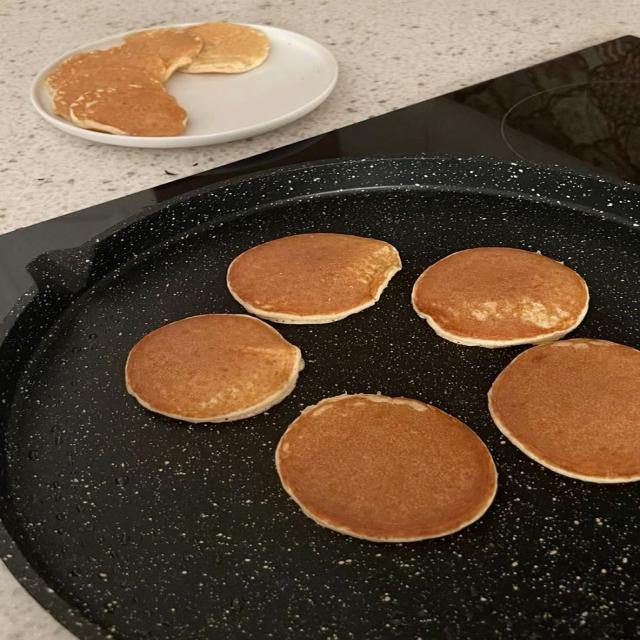pancake: (276, 395, 497, 542), (489, 339, 639, 482), (126, 314, 303, 422), (413, 248, 588, 347), (227, 234, 401, 323), (52, 66, 164, 119), (70, 85, 186, 136), (47, 47, 166, 92), (180, 23, 269, 73), (122, 29, 203, 79)
